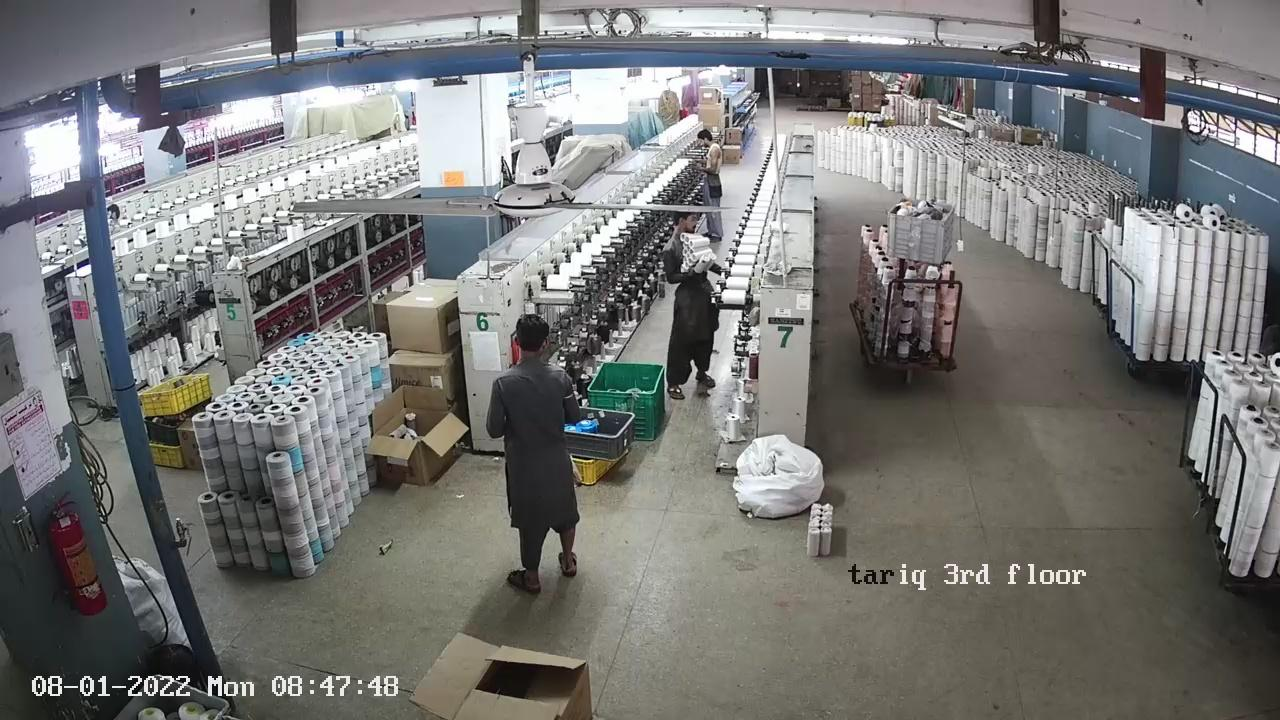person: (504, 318, 569, 585), (667, 218, 715, 387), (697, 130, 737, 238)
